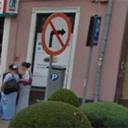NoVirarDireita: (38, 10, 76, 58)
